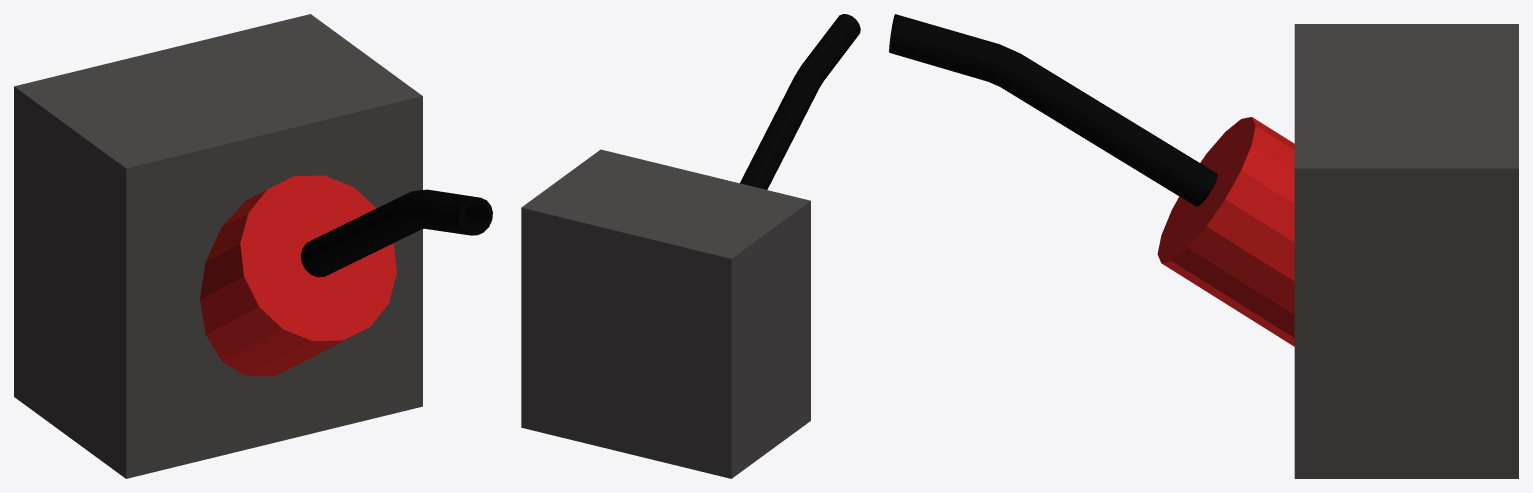
Rendered from RefuelStation.fbx.
3 renders of one model, left to right at view 1: azimuth 30°, elevation 25°; view 2: azimuth 150°, elevation 25°; view 3: azimuth 270°, elevation 25°, orthographic. The views are drawn at different scales.
Parts seen in each view (by area): view 1: RefuelStation; view 2: RefuelStation; view 3: RefuelStation.
Part boxes in pixels (x1,y1,x2,y2): RefuelStation: (14, 14, 492, 478); RefuelStation: (521, 14, 860, 478); RefuelStation: (889, 14, 1518, 478).
Bounding box in the file's own units: 161 × 202 × 295.
